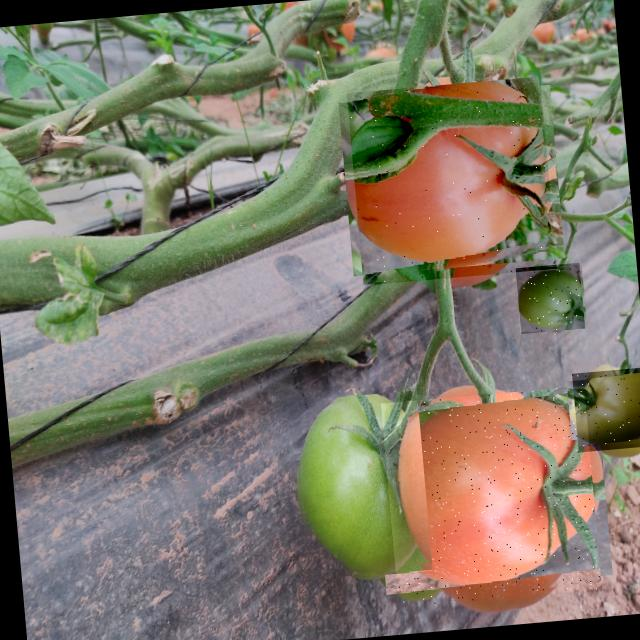Ripe Tomato: (380, 386, 602, 606), (346, 76, 556, 285)
Unripe Tomato: (289, 390, 432, 581), (571, 367, 640, 452), (515, 262, 585, 334)
